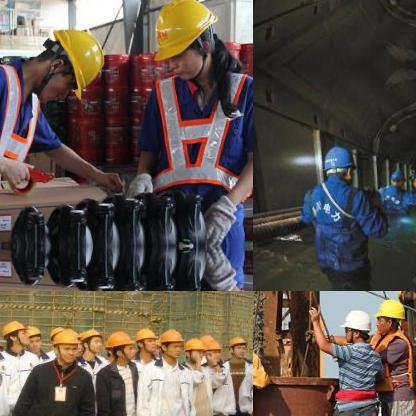Helmet: (141, 0, 224, 78), (32, 18, 104, 94), (322, 142, 354, 184), (372, 294, 404, 334), (340, 306, 372, 342), (104, 328, 136, 358), (52, 326, 78, 362), (0, 318, 30, 346), (78, 324, 102, 354), (160, 326, 182, 356), (132, 324, 156, 350), (182, 335, 206, 361), (23, 322, 41, 350), (226, 333, 246, 357), (204, 338, 222, 360), (388, 168, 404, 186)
